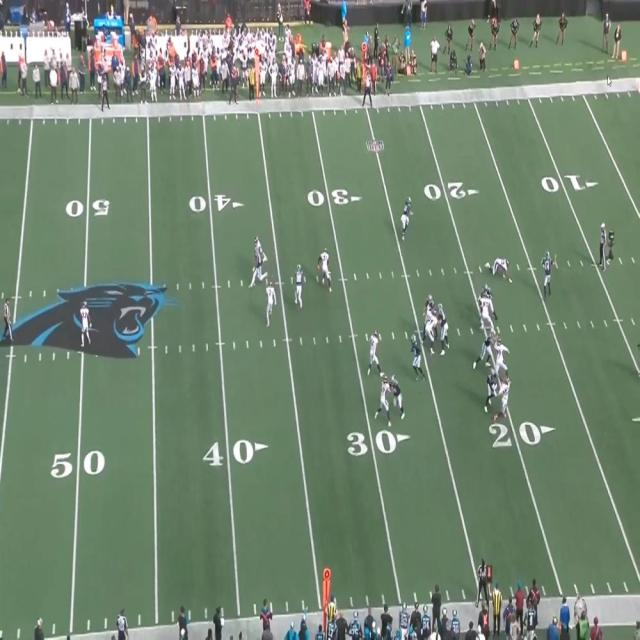db: (81, 302, 94, 348), (253, 236, 264, 284), (322, 246, 334, 288), (293, 264, 303, 310), (265, 282, 275, 324)
lb: (379, 375, 391, 428), (370, 329, 379, 376)
qb: (545, 250, 555, 293)
skill: (251, 246, 264, 289), (410, 334, 421, 374), (402, 198, 412, 240)
